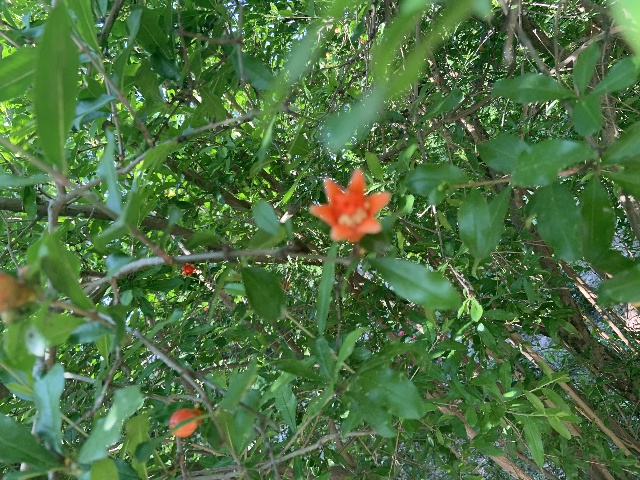bud: (169, 407, 203, 437)
flower: (310, 169, 390, 243), (181, 262, 196, 275)
